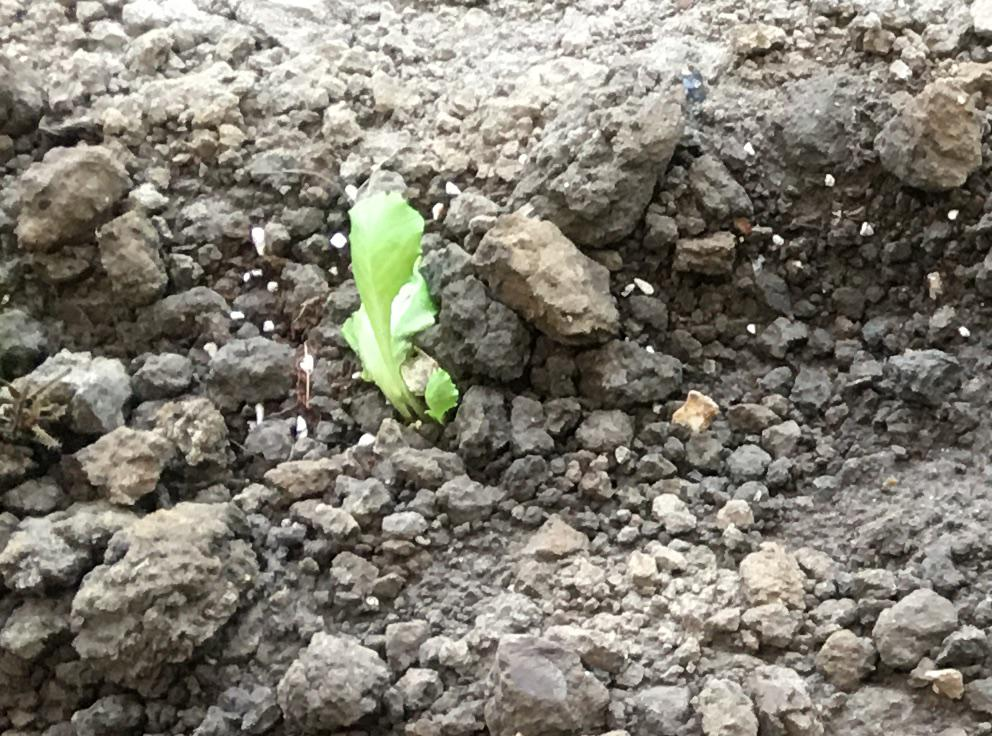block: (68, 500, 251, 683), (474, 208, 619, 345), (481, 629, 612, 734), (874, 80, 980, 195), (279, 630, 395, 733)
